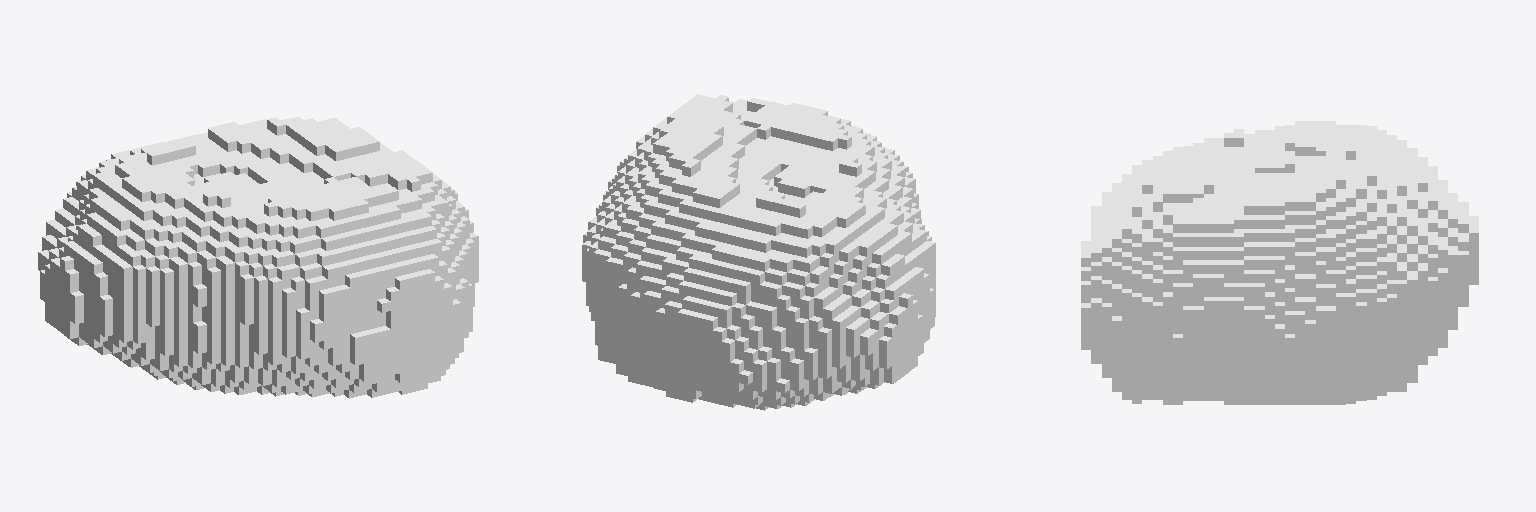
File: rock-03.obj
3 views of the same model, side by side, from view 1: azimuth 30°, elevation 25°; view 2: azimuth 150°, elevation 25°; view 3: azimuth 270°, elevation 25° (orthographic).
Size of the model in its own units: 38 by 22 by 39.